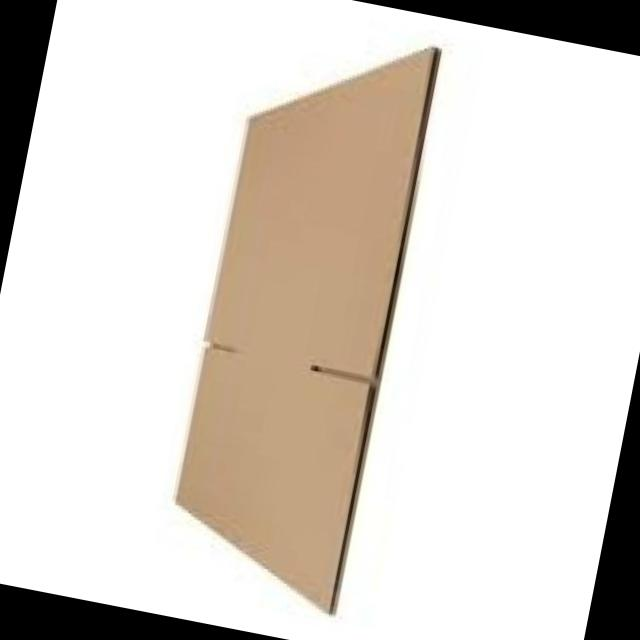cardboard paper: (174, 46, 436, 611)
